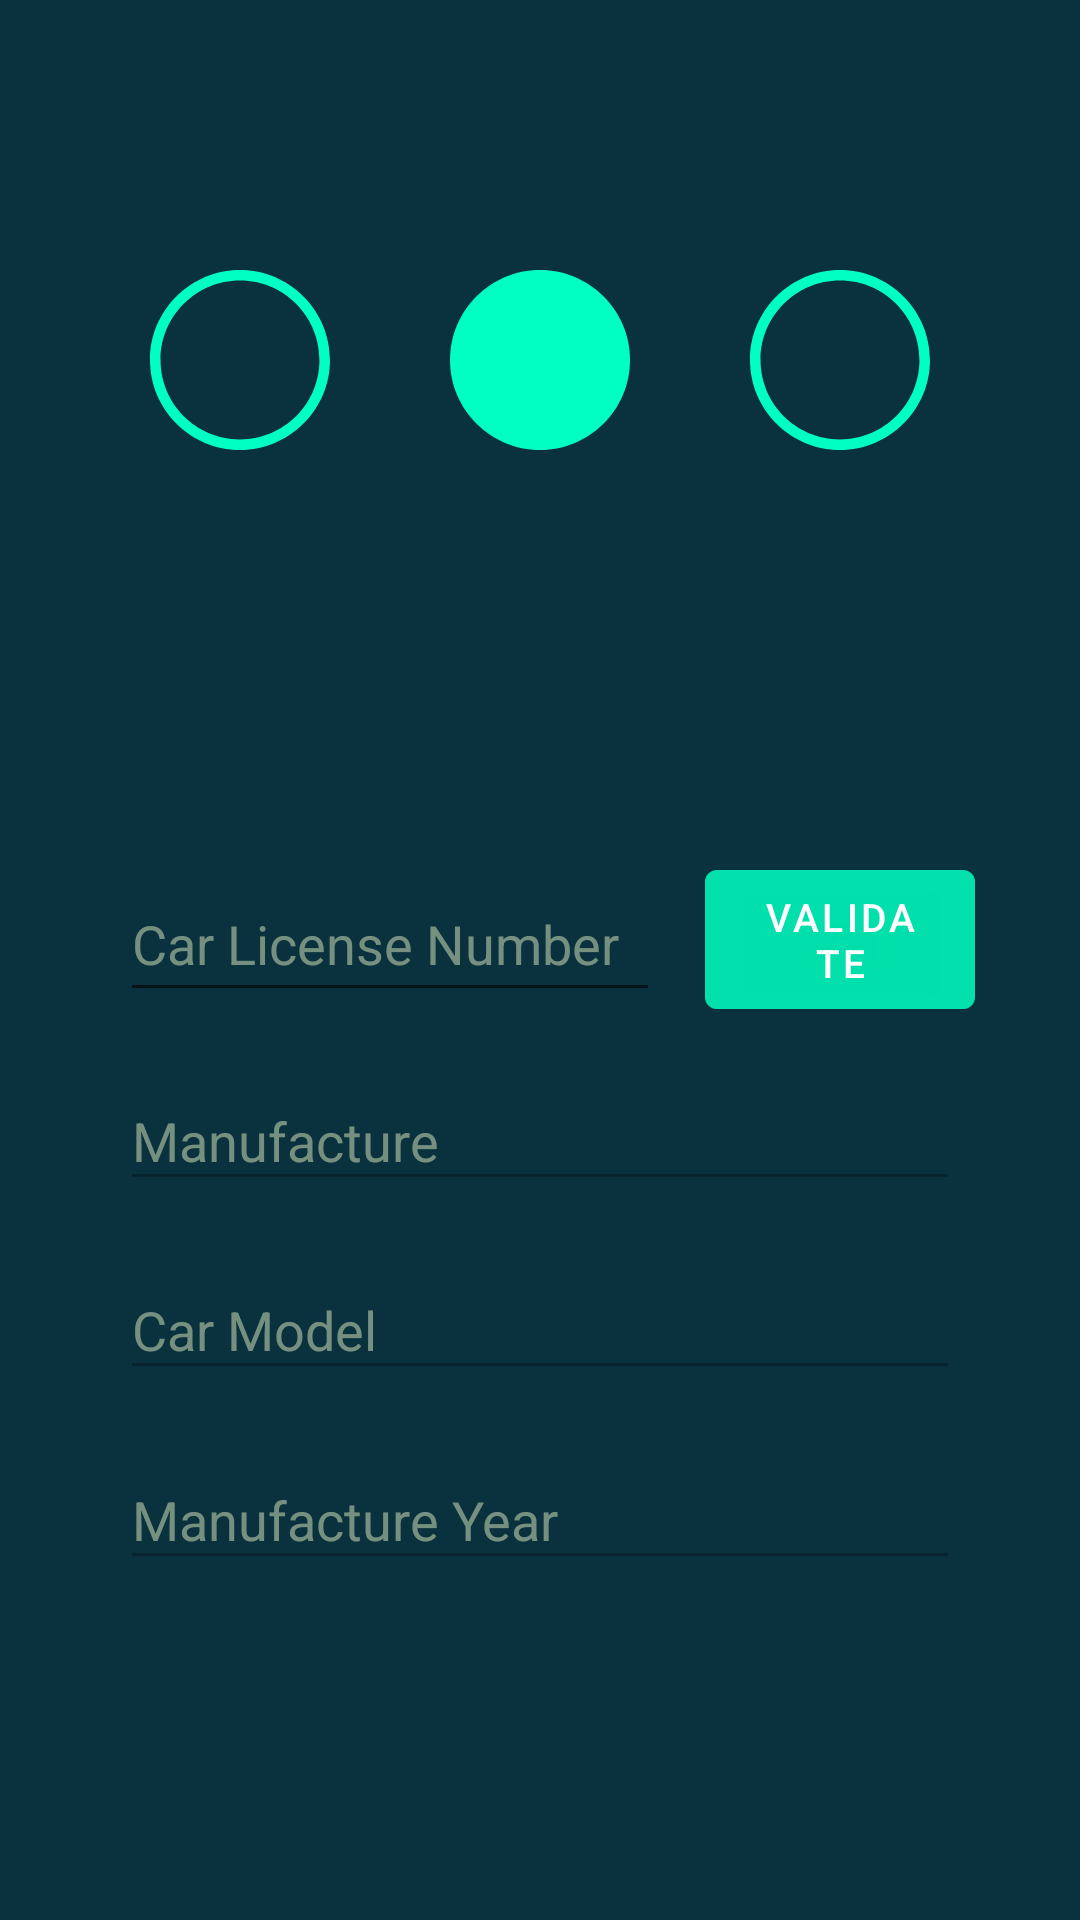

Point at icon controls on the screen. Image size 1080px×1920px, points as point (x, y).
step done: point (540, 360)
step undone: point (240, 360), point (840, 360)
